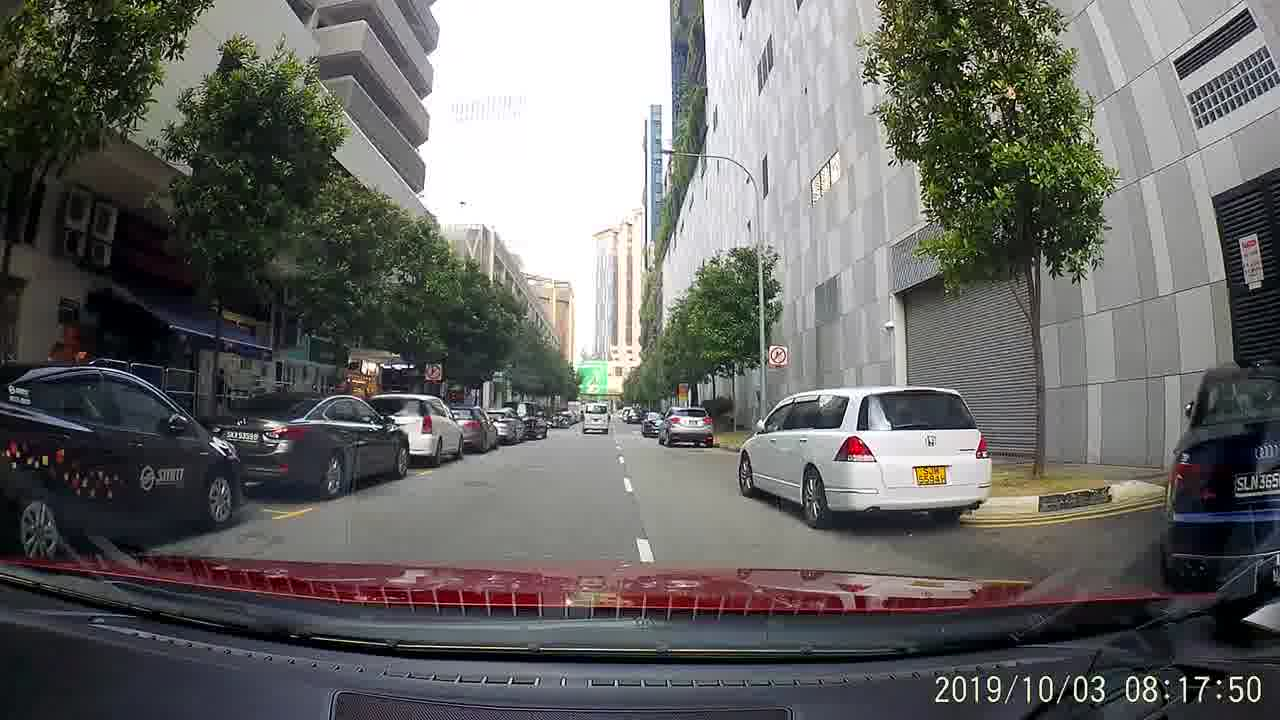car: (3, 364, 240, 557), (730, 386, 990, 532), (1163, 352, 1275, 582), (206, 388, 407, 499), (361, 388, 461, 468), (444, 401, 495, 454), (484, 406, 525, 442), (511, 401, 550, 438)
